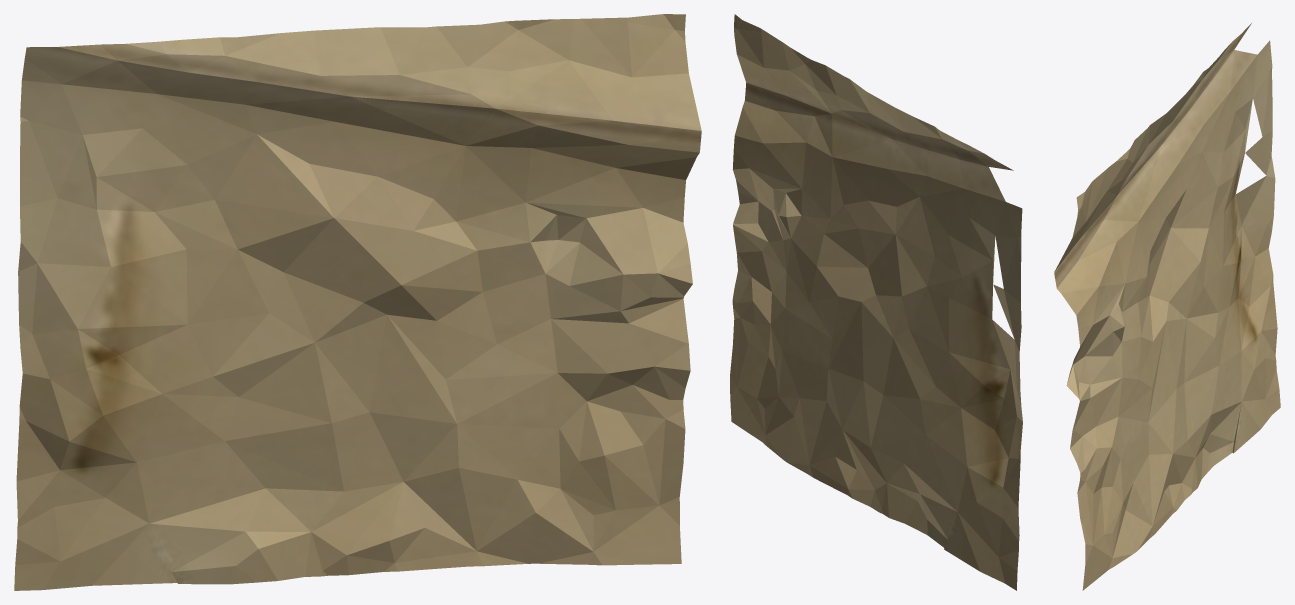
3 views of the same model, side by side, from view 1: azimuth 30°, elevation 25°; view 2: azimuth 150°, elevation 25°; view 3: azimuth 270°, elevation 25° (orthographic). The views are drawn at different scales.
Size of the model in its own units: 0.8374 by 0.8373 by 0.4372.
3 materials, 3 textured.
